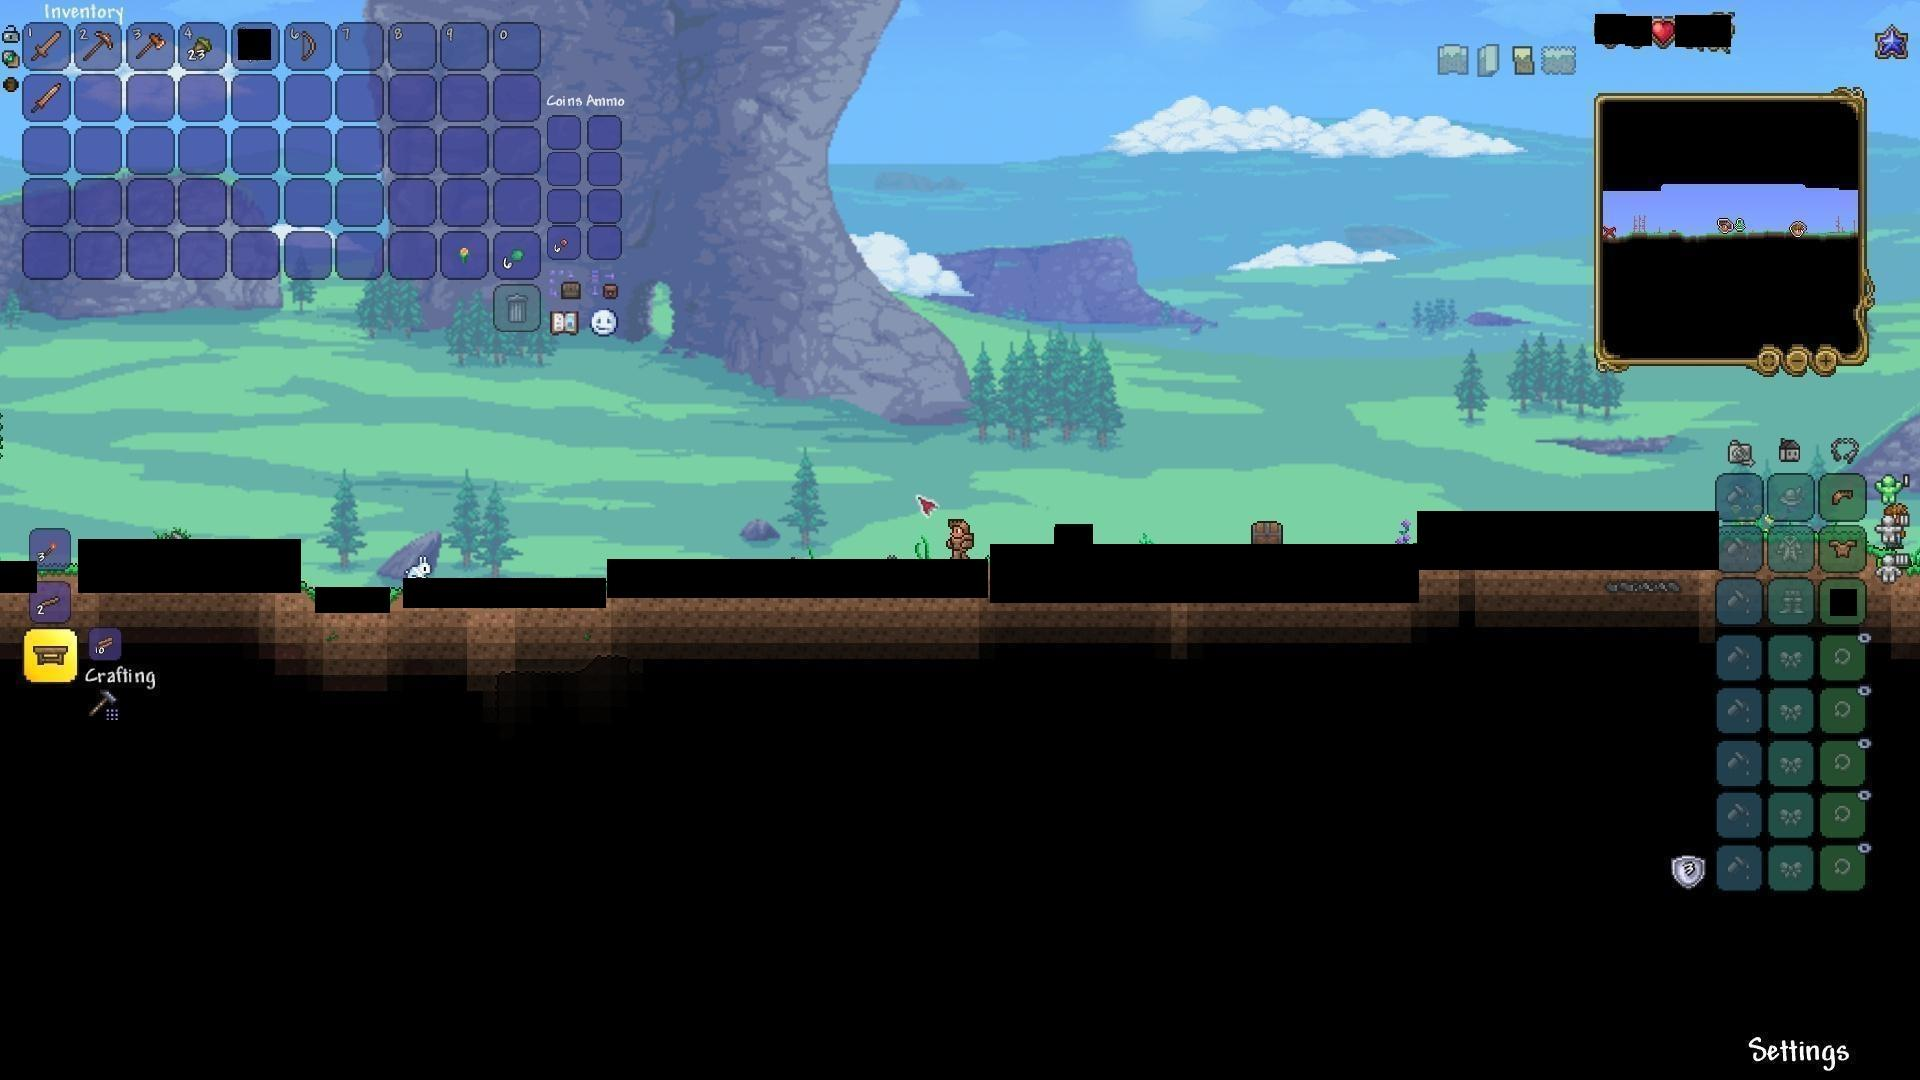breastplate: (1830, 538, 1859, 559)
heart: (1648, 17, 1676, 47)
helmet: (1828, 483, 1858, 510)
wood: (88, 629, 120, 659)
workbench: (32, 642, 69, 669)
